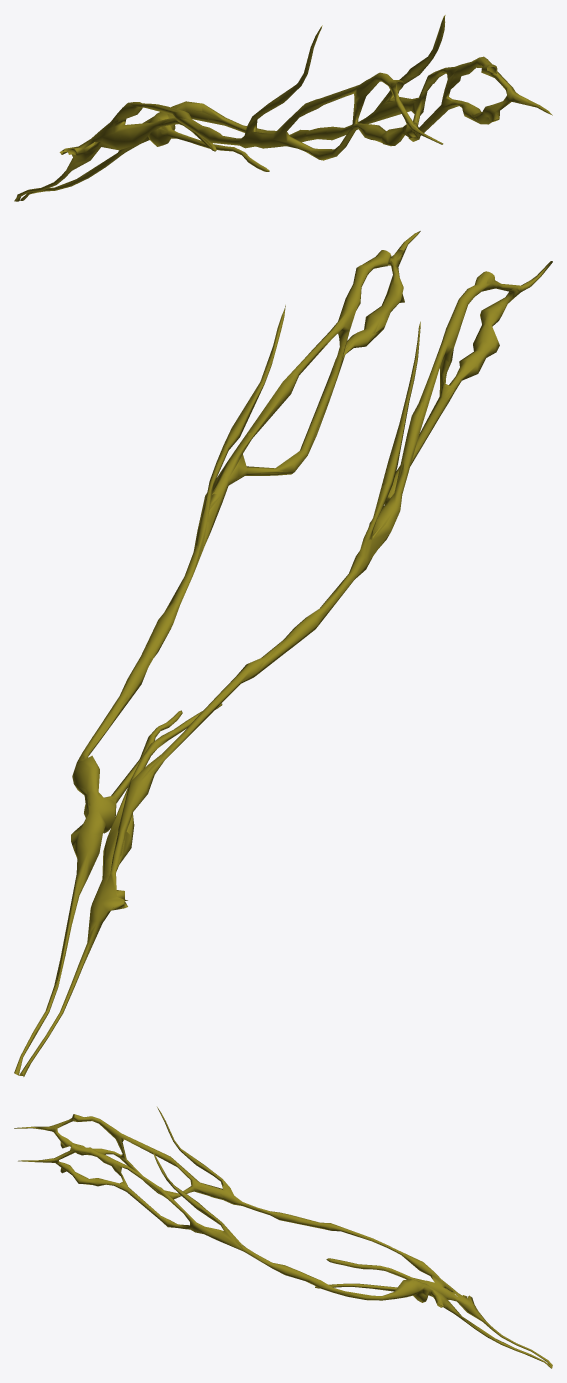
The model's file is ductus limphaticus dexter.fbx.
3 renders of one model, top to bottom at view 1: azimuth 30°, elevation 25°; view 2: azimuth 150°, elevation 25°; view 3: azimuth 270°, elevation 25°, orthographic. The views are drawn at different scales.
Parts seen in each view (by area): view 1: ductus limphaticus dexter, ductus limphaticus dexter low; view 2: ductus limphaticus dexter, ductus limphaticus dexter low; view 3: ductus limphaticus dexter, ductus limphaticus dexter low.
Part boxes in pixels (x1,y1,x2,y2): ductus limphaticus dexter: [14, 15, 552, 201]; ductus limphaticus dexter low: [17, 17, 535, 196]; ductus limphaticus dexter: [14, 231, 552, 1076]; ductus limphaticus dexter low: [15, 244, 537, 1075]; ductus limphaticus dexter: [14, 1107, 552, 1368]; ductus limphaticus dexter low: [33, 1111, 541, 1361].
Bounding box in the file's own units: 5.65 × 14.64 × 28.02.
